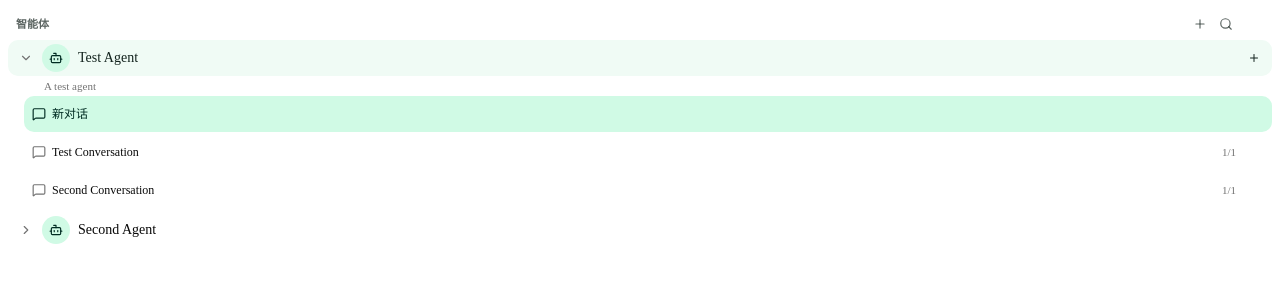
it: ChatNavigator › shows global search results above agent groups
Click the button named "搜索智能体" at {"x": 1226, "y": 24}, box [1214, 12, 1238, 36]
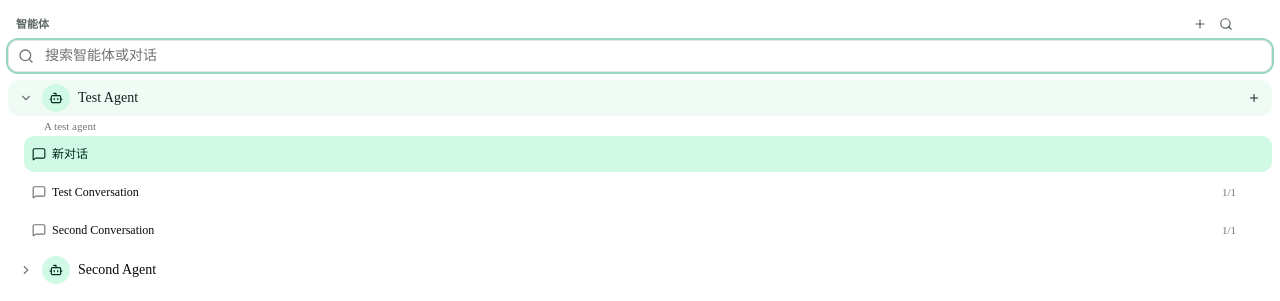
Type "Second" into the field labelled "搜索智能体或对话" at {"x": 640, "y": 56}, box [8, 40, 1272, 72]
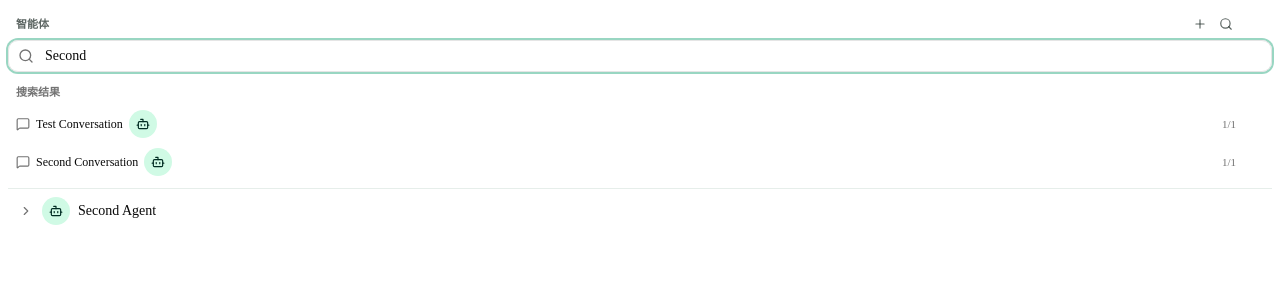
Expected: the text "Second Conversation" is shown, [36, 154, 138, 170]
Expected: the text "搜索结果" is shown, [16, 86, 60, 98]
